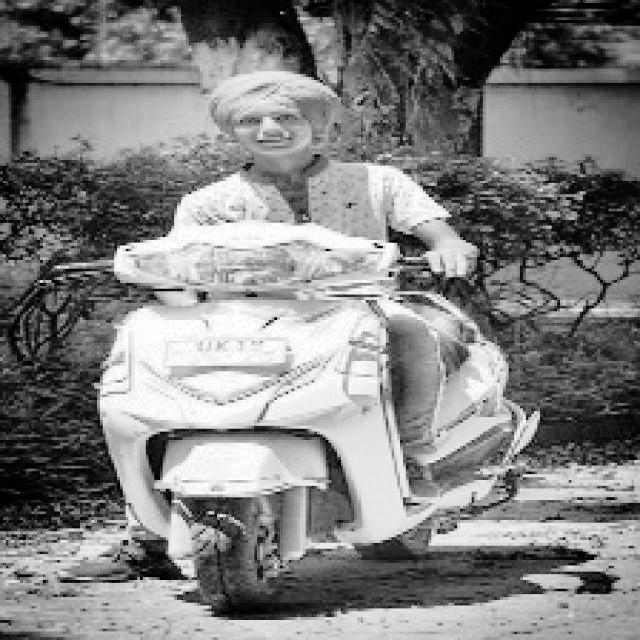Bike: (79, 239, 557, 605)
